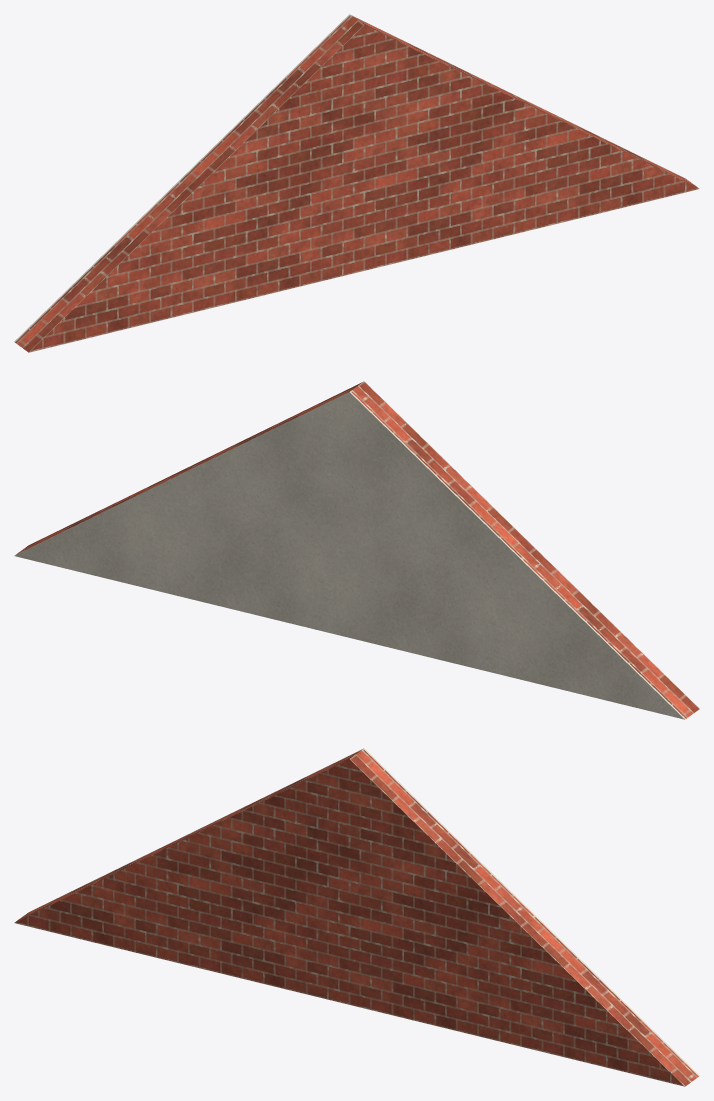
File: gable_plain.glb
3 renders of one model, top to bottom at view 1: azimuth 30°, elevation 25°; view 2: azimuth 150°, elevation 25°; view 3: azimuth 330°, elevation 25°, orthographic.
Visible parts, largest first — view 1: gable_plain_brick, gable_plain_plaster; view 2: gable_plain_plaster, gable_plain_brick; view 3: gable_plain_brick, gable_plain_plaster.
Part boxes in pixels (left/top/right/bottom): gable_plain_brick: left=15, top=15, right=699, bottom=352; gable_plain_plaster: left=14, top=14, right=677, bottom=342; gable_plain_plaster: left=14, top=391, right=685, bottom=719; gable_plain_brick: left=16, top=381, right=699, bottom=718; gable_plain_brick: left=14, top=749, right=698, bottom=1086; gable_plain_plaster: left=36, top=748, right=699, bottom=1076.
Size of the model in its own units: 7.83 by 2.74 by 0.3.
Materials: 2 (2 with a texture image).
